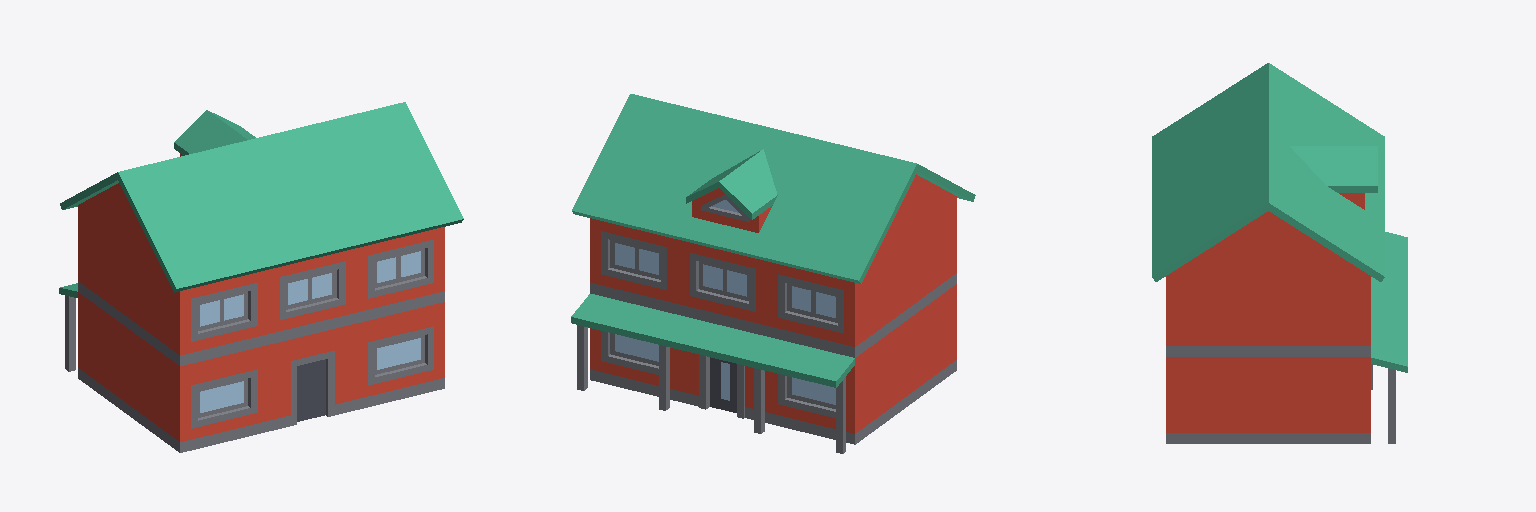
File: city_house_g.obj
3 renders of one model, left to right at view 1: azimuth 30°, elevation 25°; view 2: azimuth 150°, elevation 25°; view 3: azimuth 270°, elevation 25°, orthographic.
Visible parts, largest first — view 1: mergedBlocks; view 2: mergedBlocks; view 3: mergedBlocks.
Part boxes in pixels (bbox=[...]): mergedBlocks: bbox=[59, 102, 463, 452]; mergedBlocks: bbox=[571, 94, 975, 453]; mergedBlocks: bbox=[1152, 63, 1407, 443].
Bounding box in the file's own units: 0.832 × 0.6825 × 0.6438.